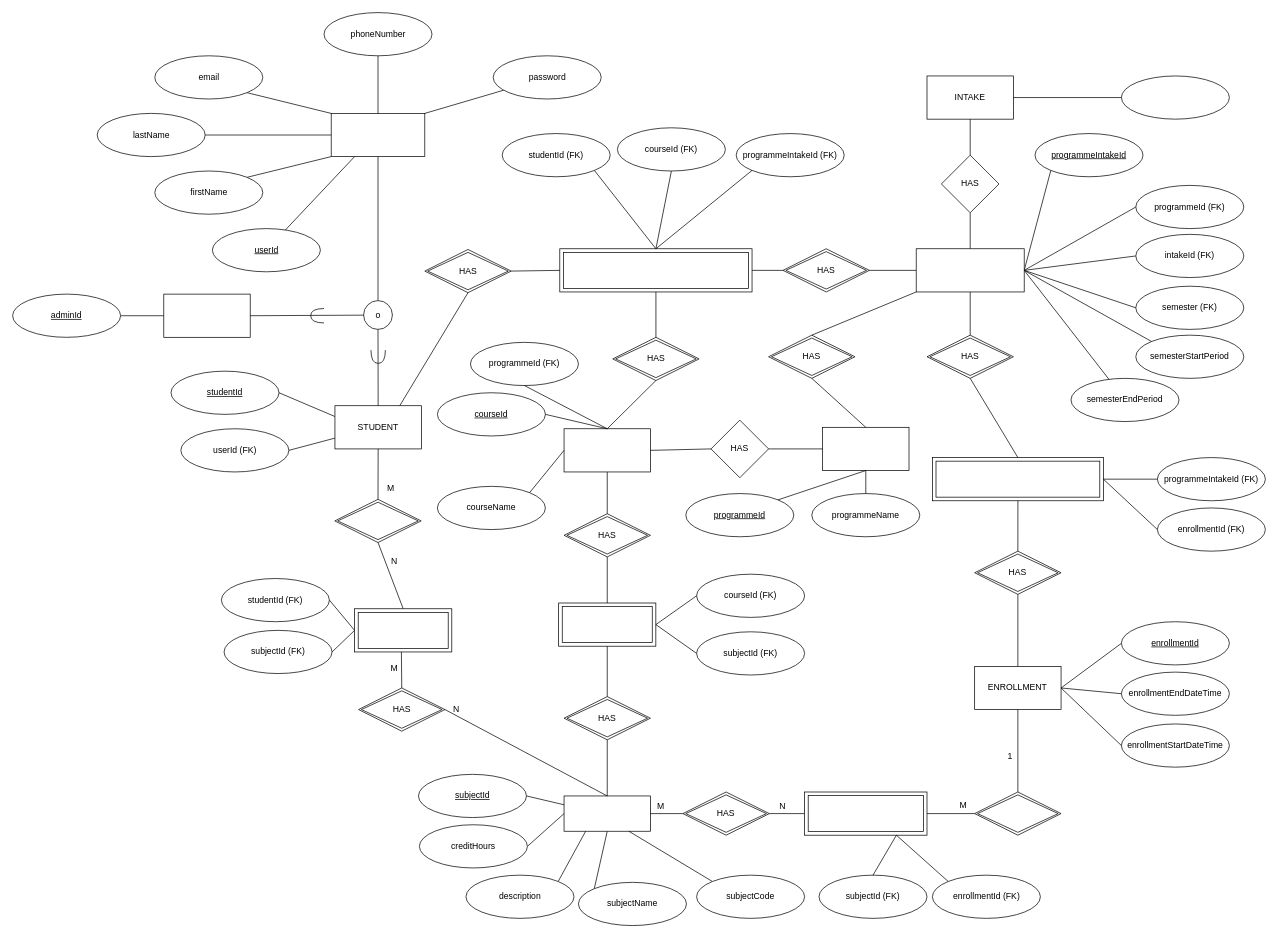
Some shapes in this 1278 by 938 pixel diagram are drawn without their labels. Each missing label, with the box of its shape:
ADMIN: (163, 293, 250, 337)
COURSE: (563, 428, 650, 472)
COURSE_SUBJECT: (558, 602, 656, 646)
ENROLL: (334, 499, 421, 543)
ENROLLMENT_PROGRAMME_INTAKE: (932, 457, 1103, 501)
ENROLLMENT_SUBJECT: (804, 791, 927, 835)
INCLUDES: (974, 791, 1061, 835)
intakeId: (1121, 75, 1229, 119)
PROGRAMME: (822, 427, 909, 471)
PROGRAMME_INTAKE: (915, 248, 1024, 292)
STUDENT_COURSE_PROGRAMME_INTAKE: (559, 248, 752, 292)
STUDENT_SUBJECT: (354, 608, 452, 652)
SUBJECT: (563, 795, 650, 831)
USER: (330, 113, 425, 157)
